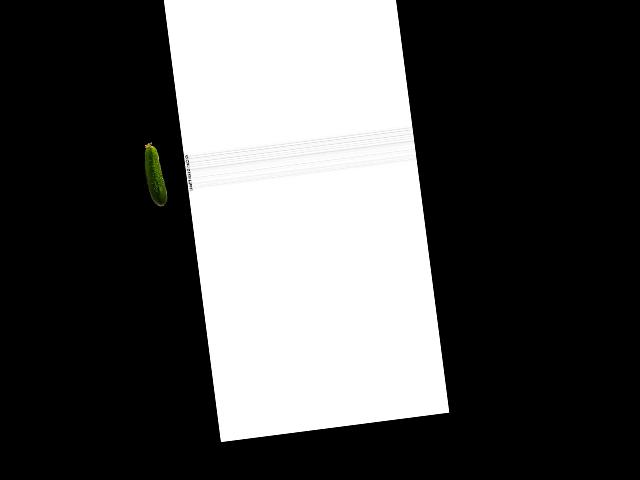cucumber: (141, 141, 168, 208)
